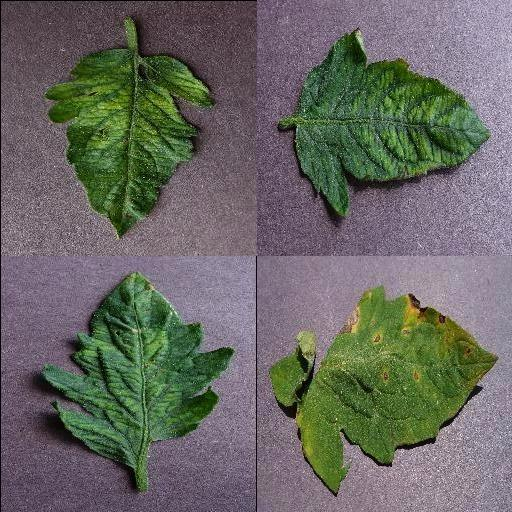Mosaic Virus: (40, 270, 234, 468), (294, 28, 490, 220), (42, 48, 216, 240)
Septoria: (299, 284, 499, 494)
